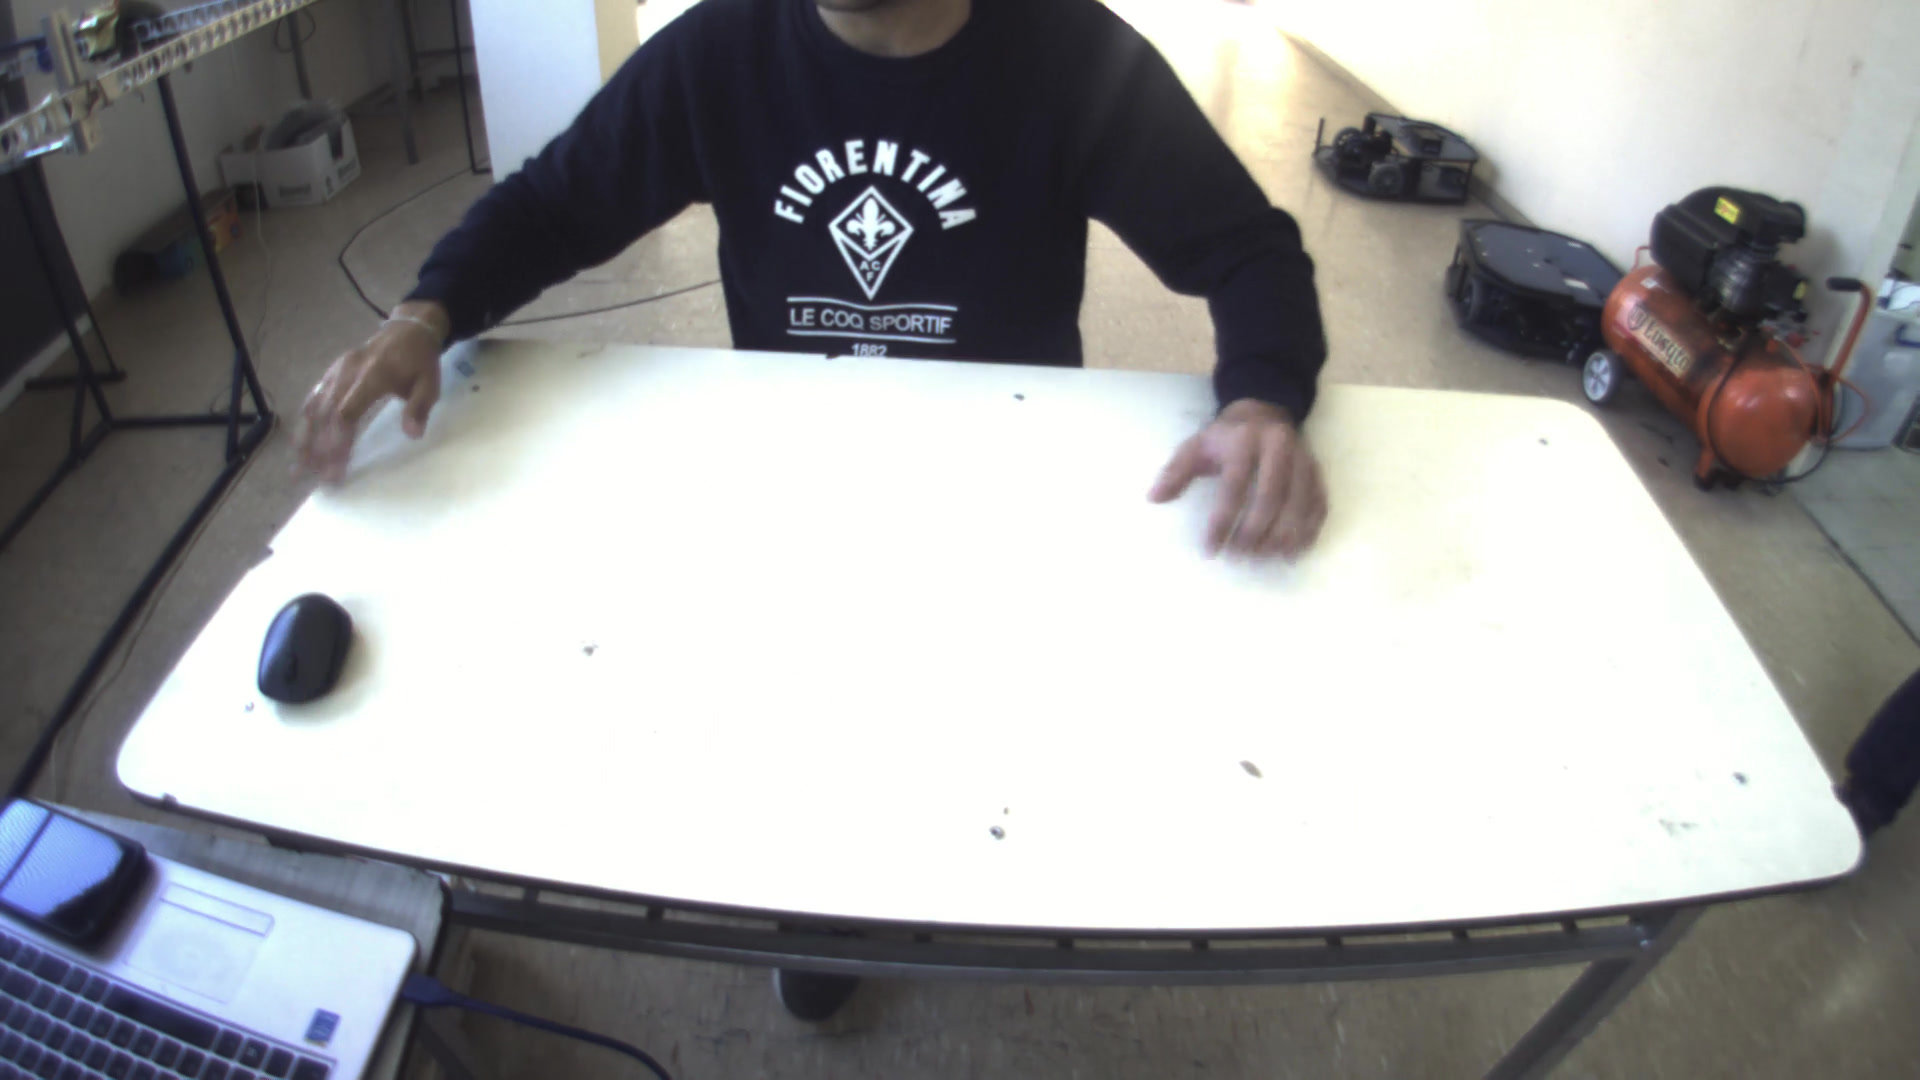hand: (1146, 390, 1342, 568), (280, 298, 448, 493)
